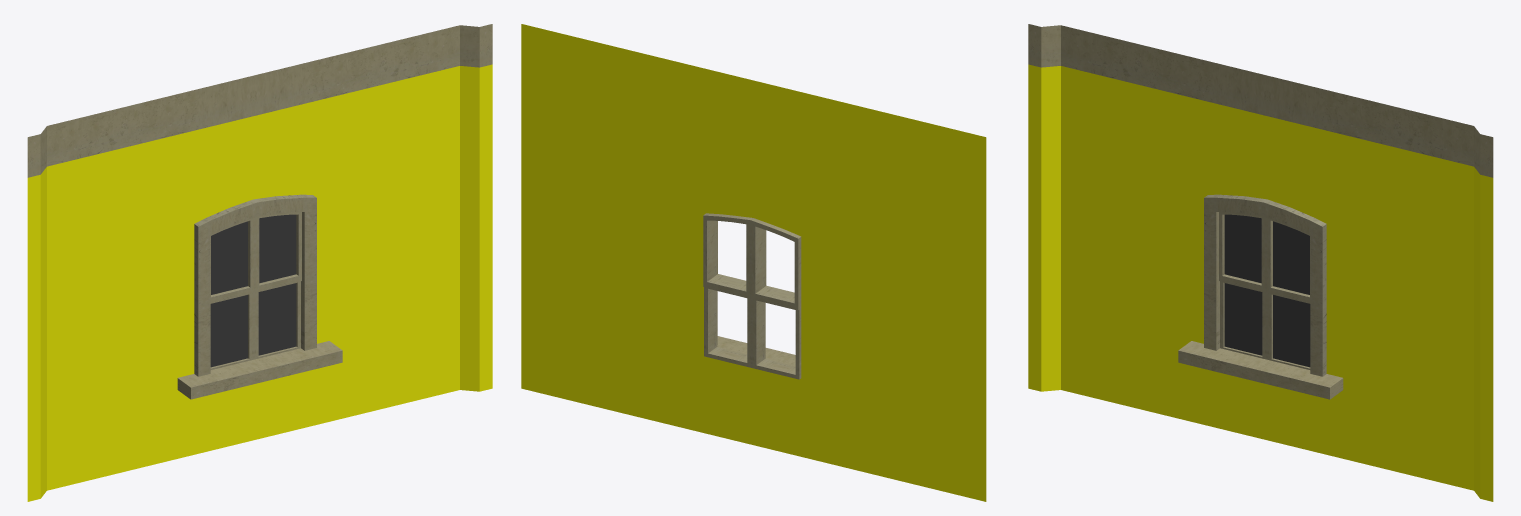
File: brick-inset-window-curved-small.glb
3 views of the same model, side by side, from view 1: azimuth 30°, elevation 25°; view 2: azimuth 150°, elevation 25°; view 3: azimuth 330°, elevation 25° (orthographic).
Parts seen in each view (by area): view 1: Brick_Inset_Window_Curved_Small; view 2: Brick_Inset_Window_Curved_Small; view 3: Brick_Inset_Window_Curved_Small.
Boxes of the visible parts, x1,y1,x2,y2 form: Brick_Inset_Window_Curved_Small: (27,24,492,501); Brick_Inset_Window_Curved_Small: (521,24,986,501); Brick_Inset_Window_Curved_Small: (1028,24,1493,501).
Bounding box in the file's own units: 4 × 3 × 0.3426.
4 materials, 1 textured.
